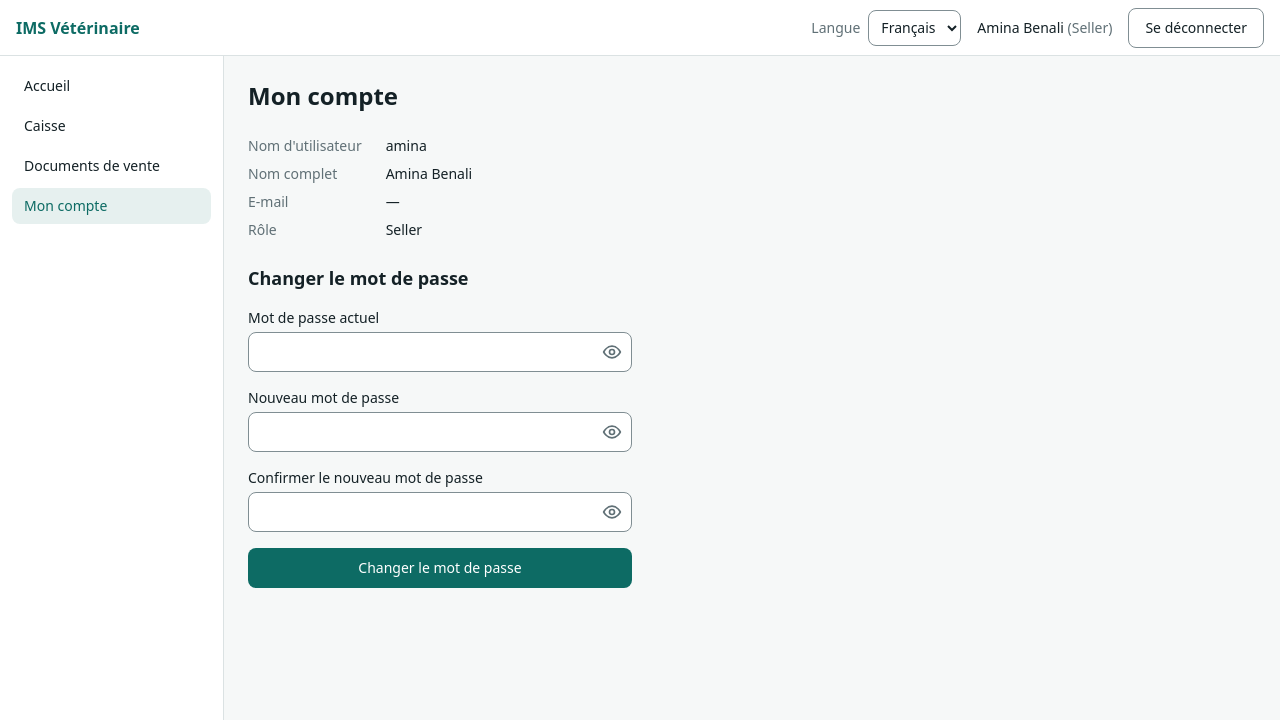
Scenario: AccountPage › puts server field errors on their fields
The width and height of the screenshot is (1280, 720).
In the password field labelled "Mot de passe actuel": [440, 352] box [248, 332, 632, 372], type "wrong-current-pw"
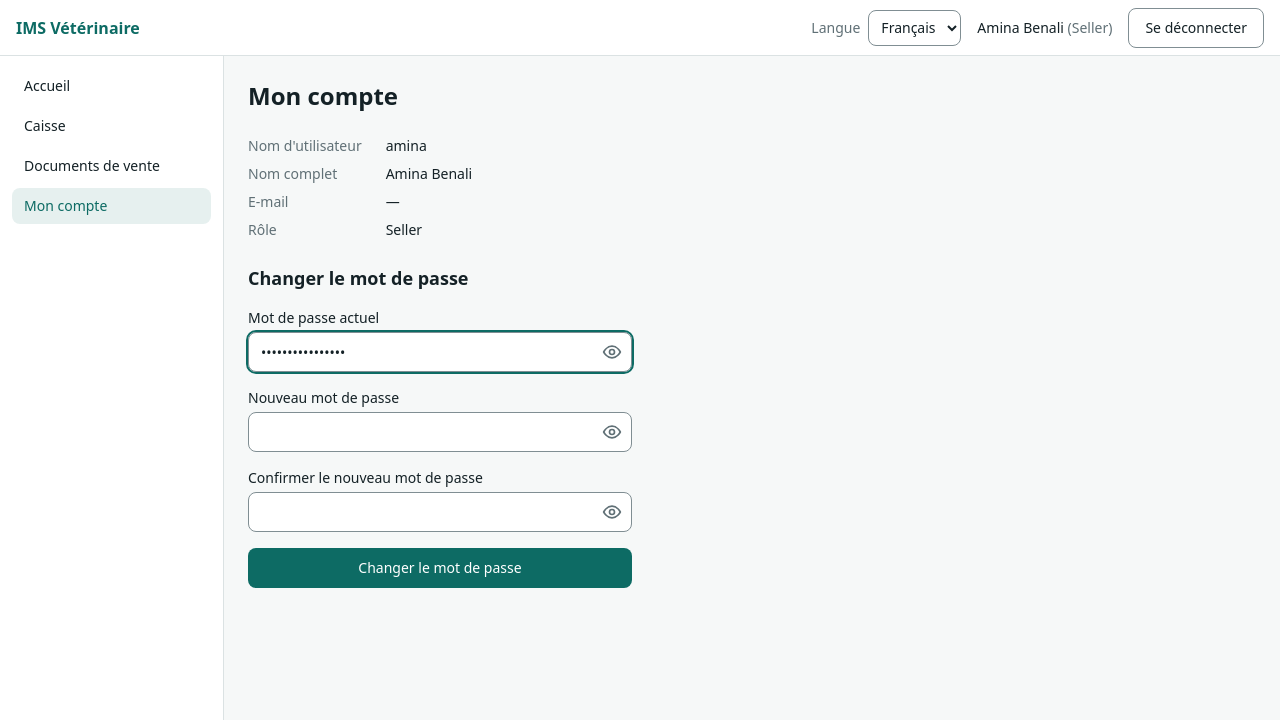
In the password field labelled "Nouveau mot de passe": [440, 432] box [248, 412, 632, 452], type "Q1W2E3R4T5Y6"
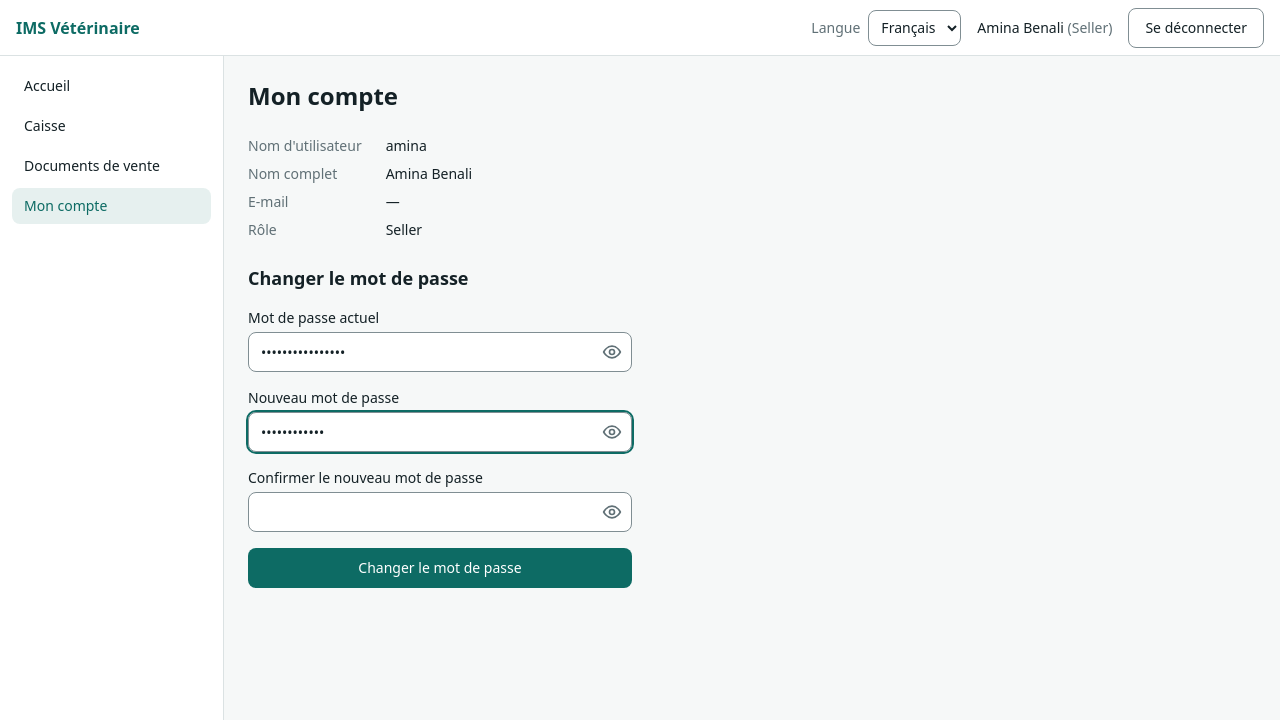
In the password field labelled "Confirmer le nouveau mot de passe": [440, 512] box [248, 492, 632, 532], type "Q1W2E3R4T5Y6"
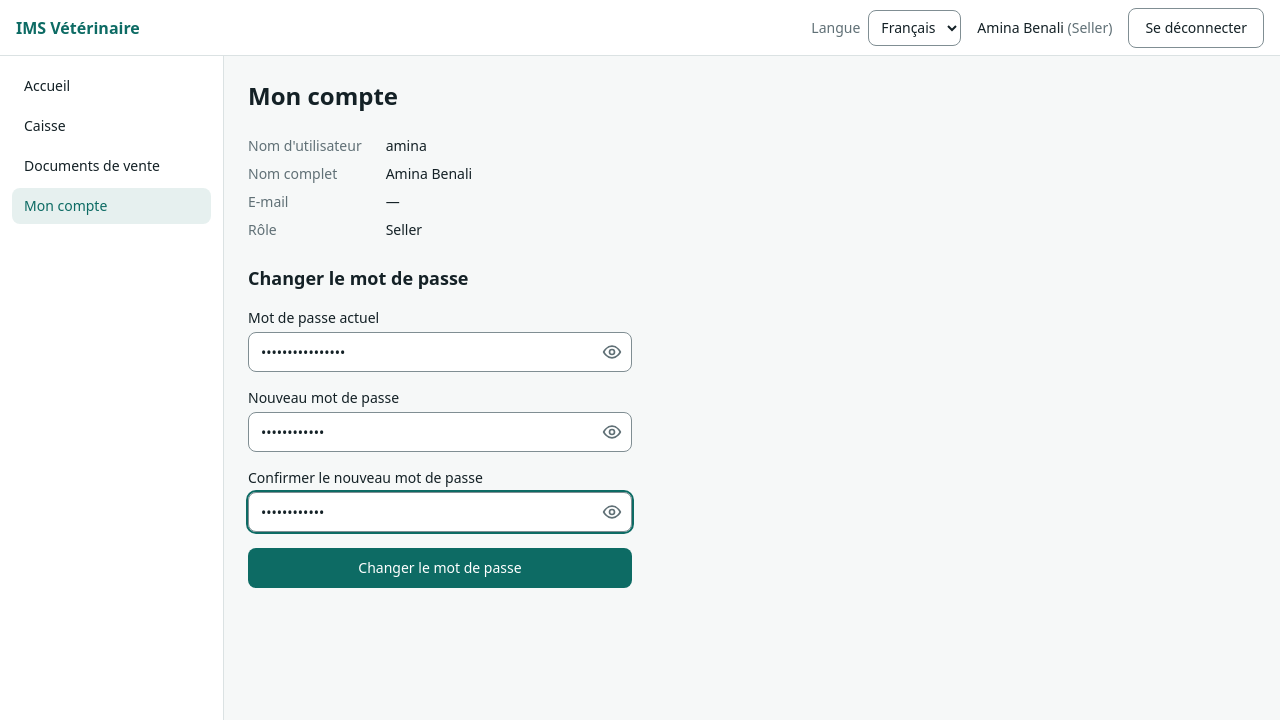
Click the button "Changer le mot de passe": [440, 568] box [248, 548, 632, 588]
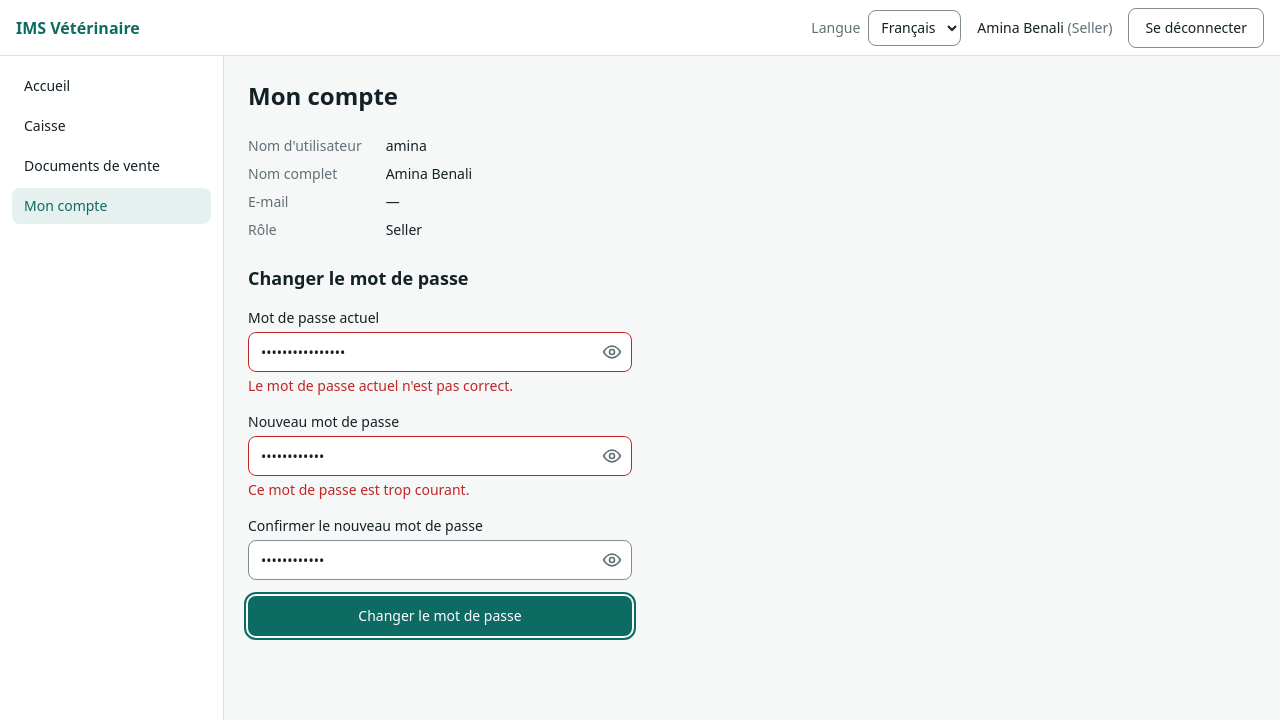
expect the text "Le mot de passe actuel n'est pas correct." is shown: met, box [248, 376, 513, 395]
expect the text "Ce mot de passe est trop courant." is shown: met, box [248, 480, 469, 499]
